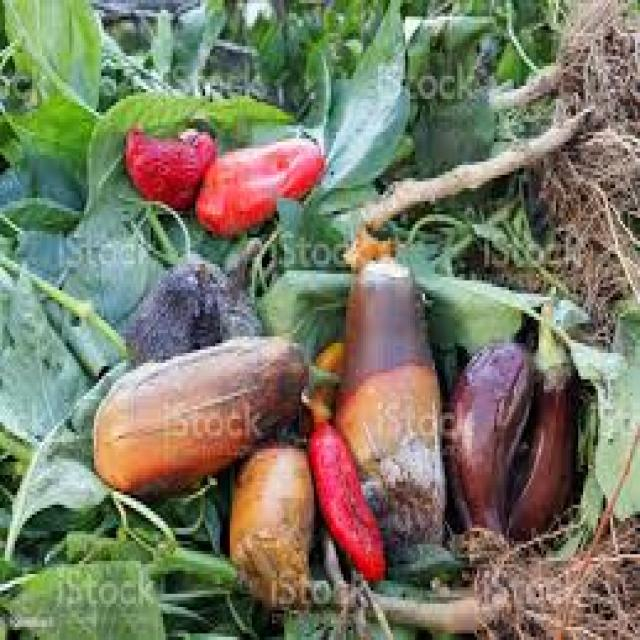organic waste: (0, 0, 551, 125), (0, 356, 143, 636), (326, 221, 442, 564), (89, 330, 334, 485), (17, 482, 235, 636), (0, 254, 131, 452), (405, 244, 581, 360), (442, 326, 534, 534), (504, 284, 581, 531), (321, 0, 413, 198), (284, 558, 482, 636), (126, 251, 257, 363), (306, 376, 383, 564), (225, 432, 306, 604), (578, 297, 638, 518), (190, 125, 324, 221), (254, 267, 348, 340), (124, 122, 210, 201), (302, 330, 344, 425), (554, 317, 620, 376)
